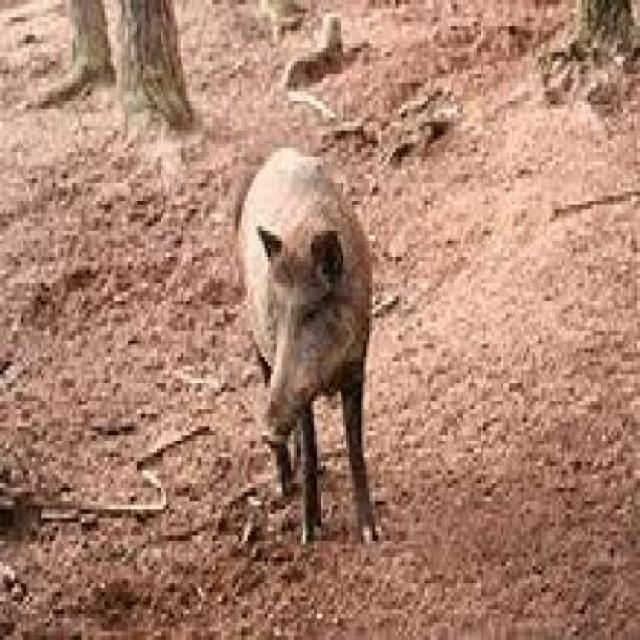wildboar: (226, 141, 392, 564)
